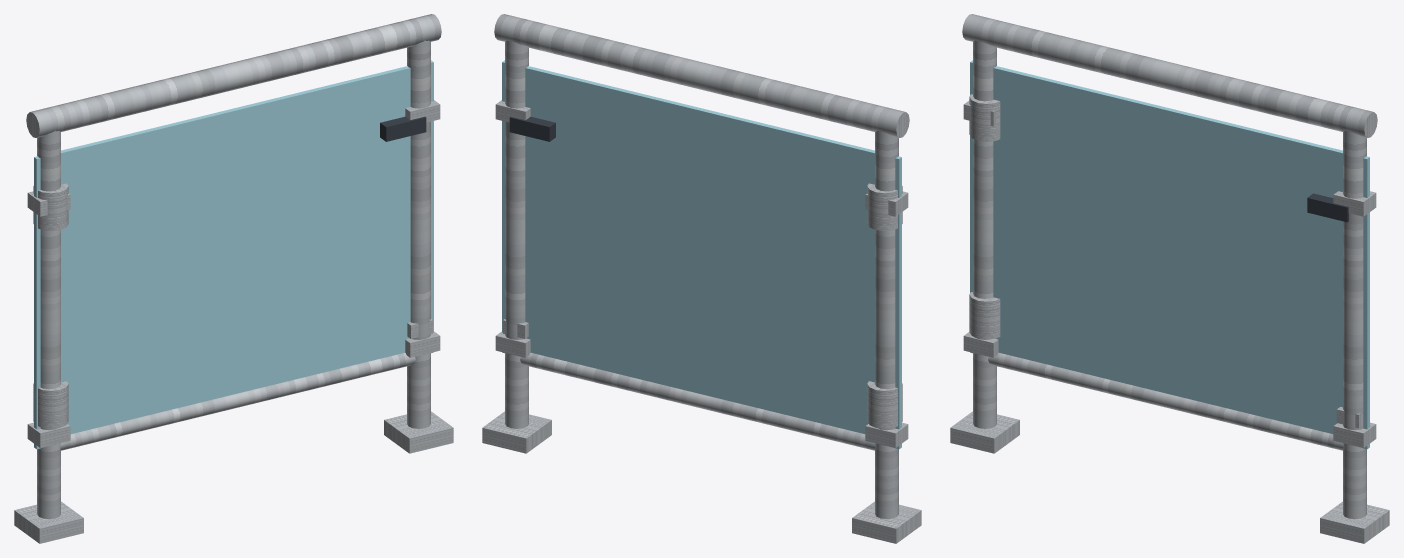
File: fence-gate.glb
3 views of the same model, side by side, from view 1: azimuth 30°, elevation 25°; view 2: azimuth 150°, elevation 25°; view 3: azimuth 330°, elevation 25° (orthographic).
Parts seen in each view (by area): view 1: FenceGate; view 2: FenceGate; view 3: FenceGate.
Boxes of the visible parts, bbox=[...] form: FenceGate: bbox=[14, 14, 453, 543]; FenceGate: bbox=[482, 14, 921, 543]; FenceGate: bbox=[950, 14, 1389, 543].
Size of the model in its own units: 1.03 by 0.999 by 0.11.
3 materials, 1 textured.
